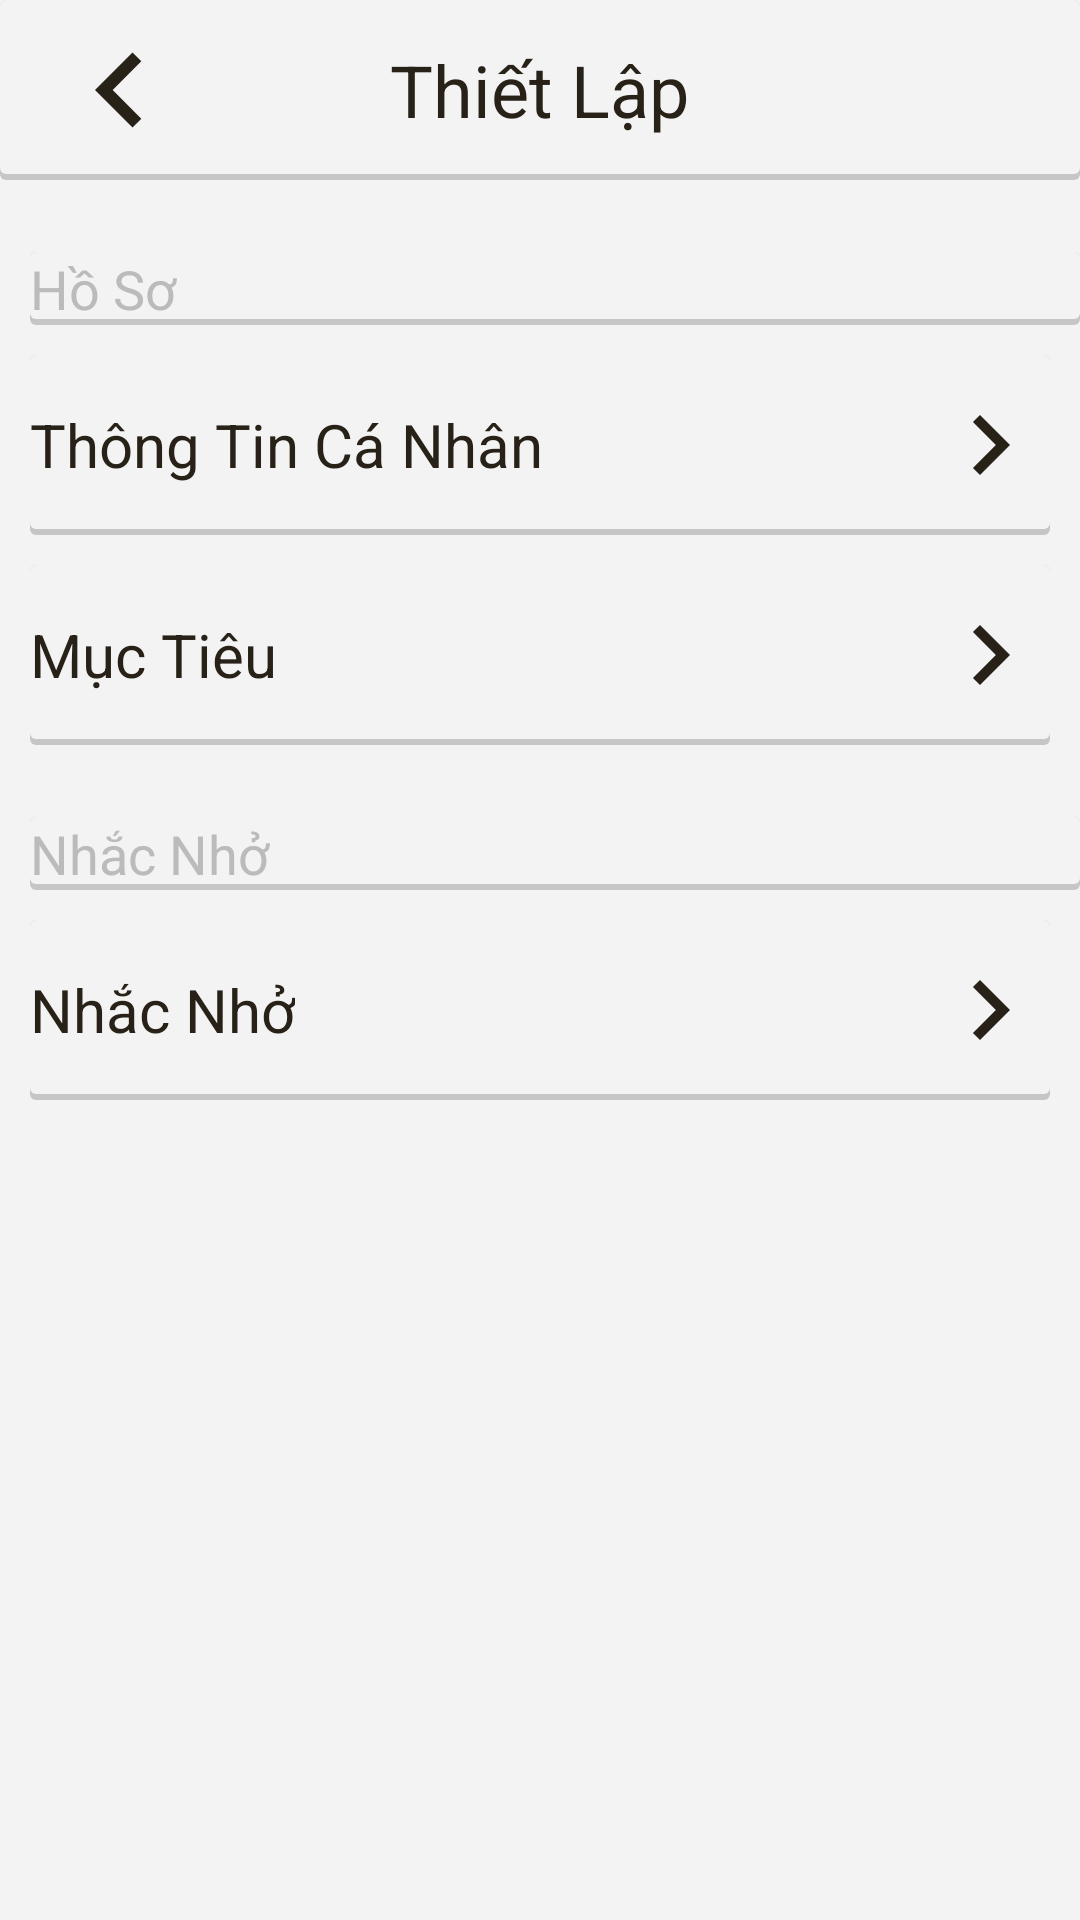

Icons on this 1080x1920 Android screen, each with the point to tap as (x=x, y=y):
keyboard arrow left: (x=118, y=90)
keyboard arrow right: (x=991, y=445), (x=991, y=655), (x=991, y=1010)
